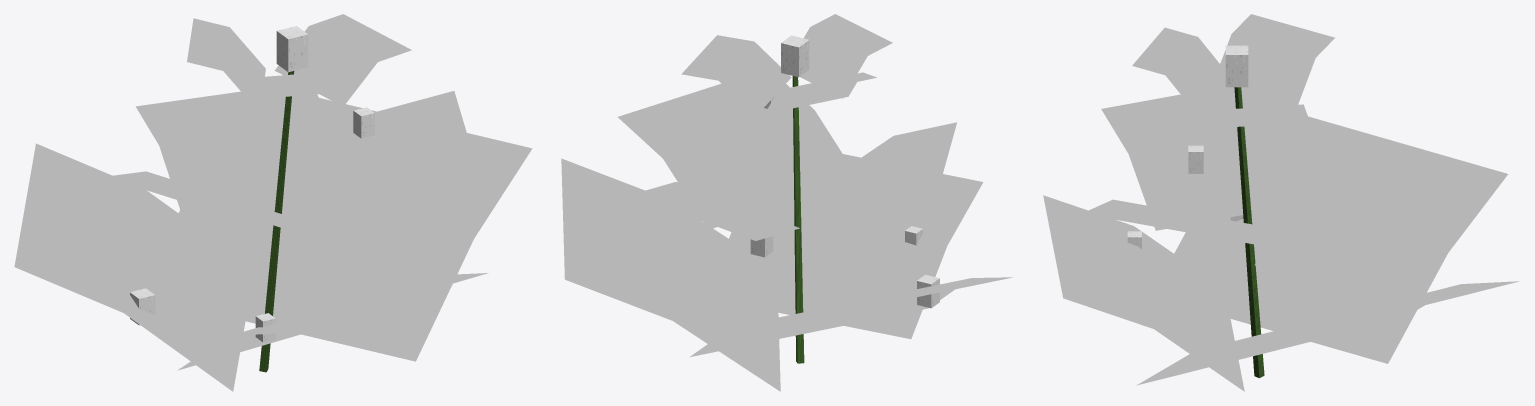
Rendered from plant_2_3_1_lod.obj.
3 views of the same model, side by side, from view 1: azimuth 30°, elevation 25°; view 2: azimuth 150°, elevation 25°; view 3: azimuth 270°, elevation 25° (orthographic). The views are drawn at different scales.
Parts seen in each view (by area): view 1: model; view 2: model; view 3: model.
Boxes of the visible parts, x1,y1,x2,y2 form: model: (14,14,532,391); model: (561,14,1012,391); model: (1043,14,1519,391).
Bounding box in the file's own units: 1.12 × 0.7188 × 0.9319.
